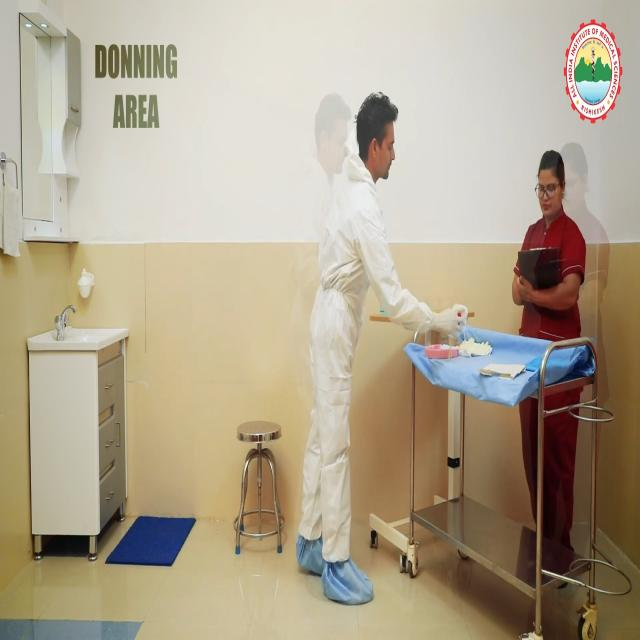Gloves: (429, 304, 469, 339)
